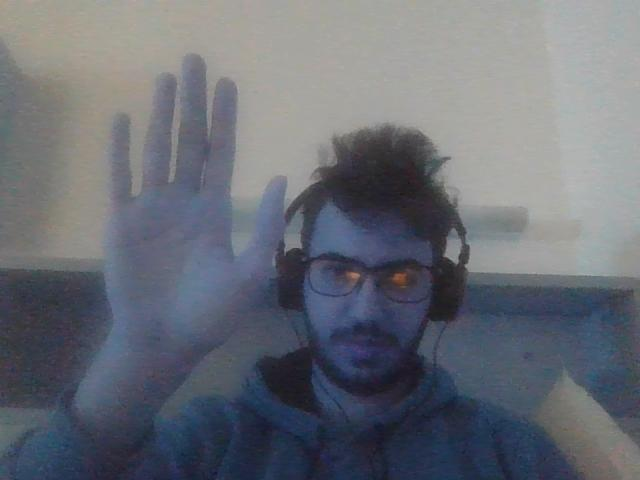Hello: (105, 52, 286, 340)
